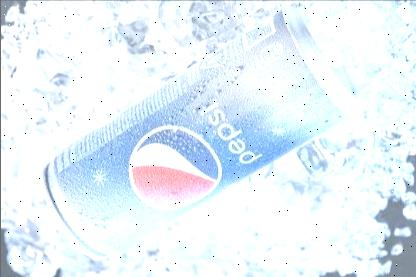Can: (39, 5, 367, 263)
